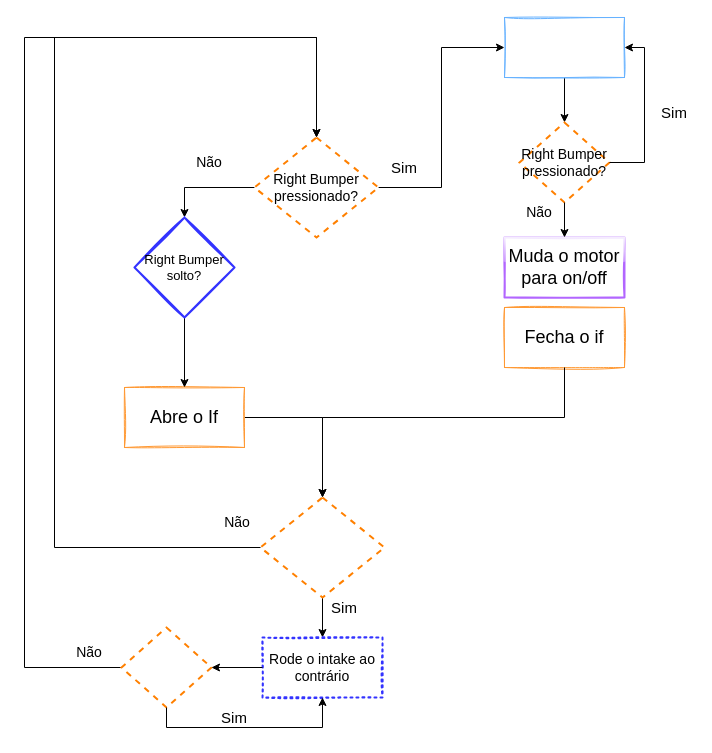
Image size: 712x753. Some labels were removed from this diagram. The shapes that lost their labels are listed below. From the top down, each one's centre as x and y in pixels, then its label:
At (x=564, y=47): "Motor Intake acionado".
At (x=322, y=547): "Right trigger pressionado?".
At (x=166, y=667): "Right trigger pressionado ?".
